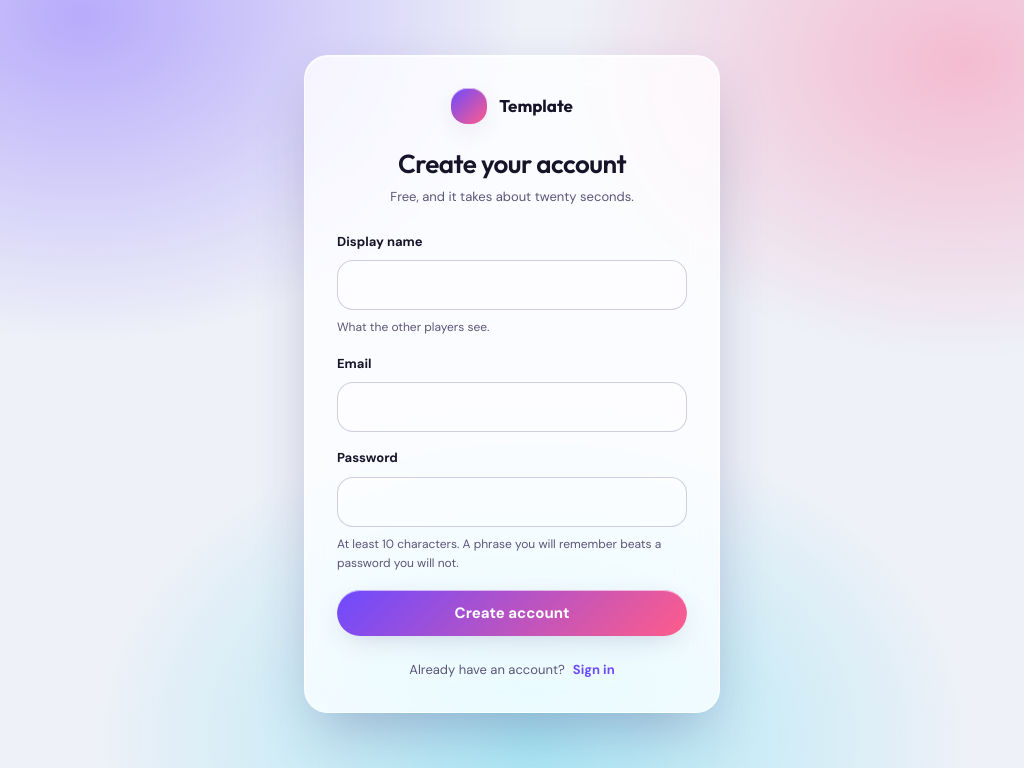
Test: server errors › ★ EMAIL_TAKEN lands on the email field even with no fieldErrors
In the field labelled "Display name": (512, 285) [337,260,687,310], type "Mehrang"
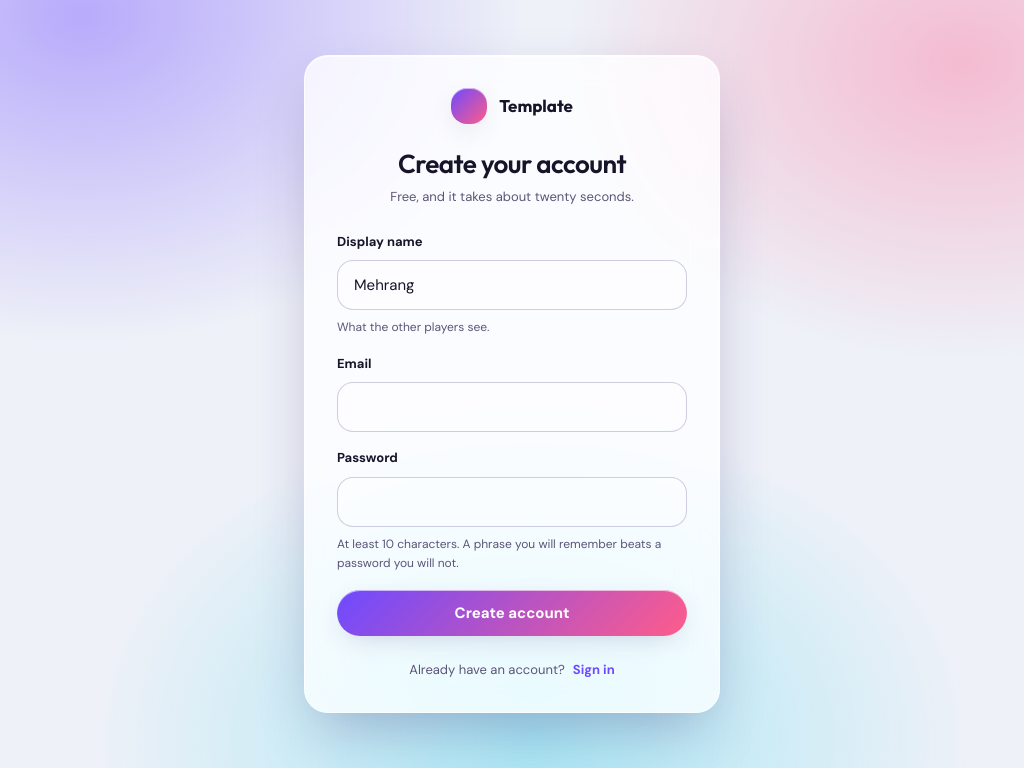
In the field labelled "Email": (512, 407) [337,382,687,432], type "taken@test.dev"
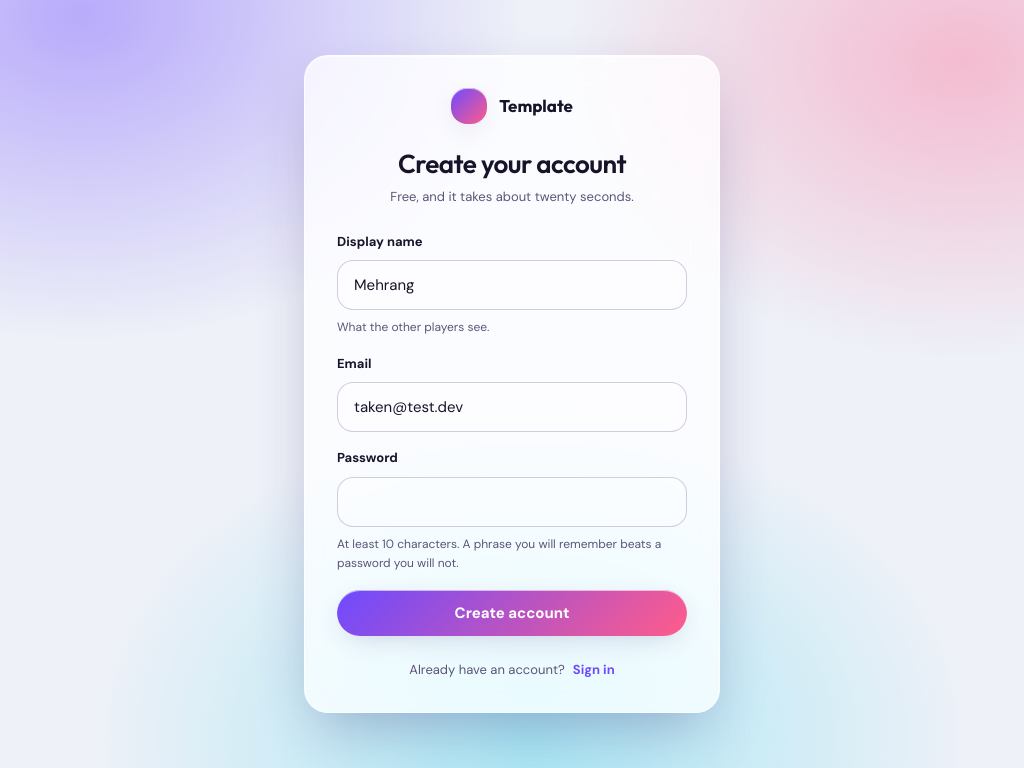
In the password field labelled "Password": (512, 502) [337,477,687,527], type "correct-horse-battery"
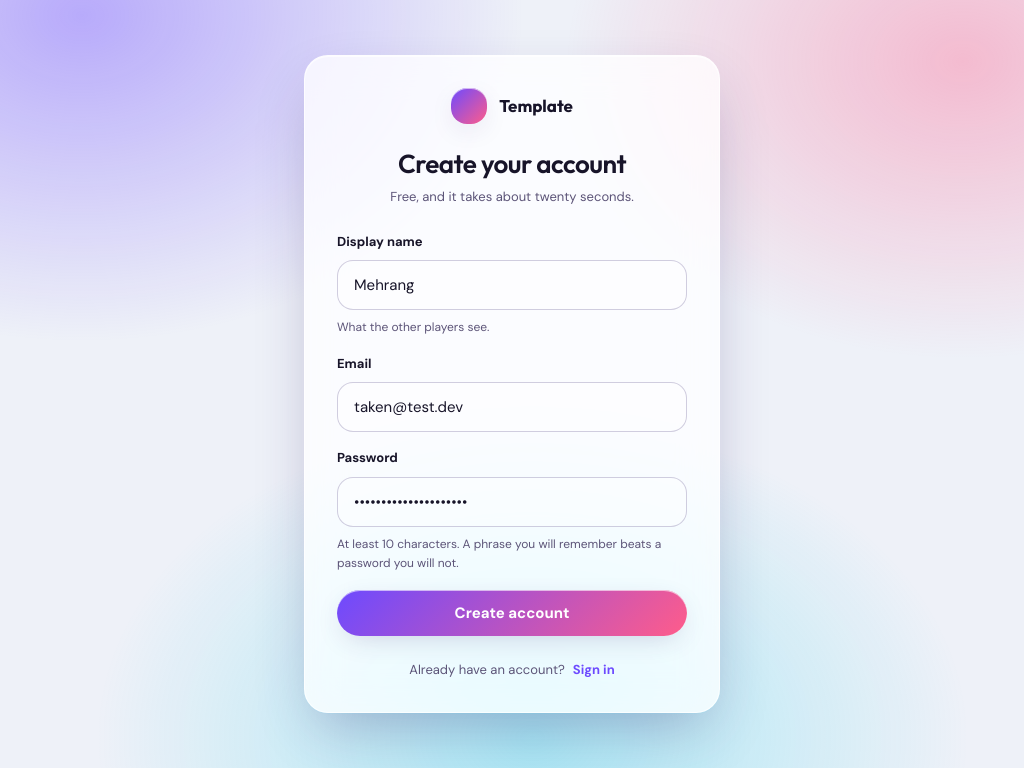
Submit the form from the button "Create account", box [337,590,687,636]
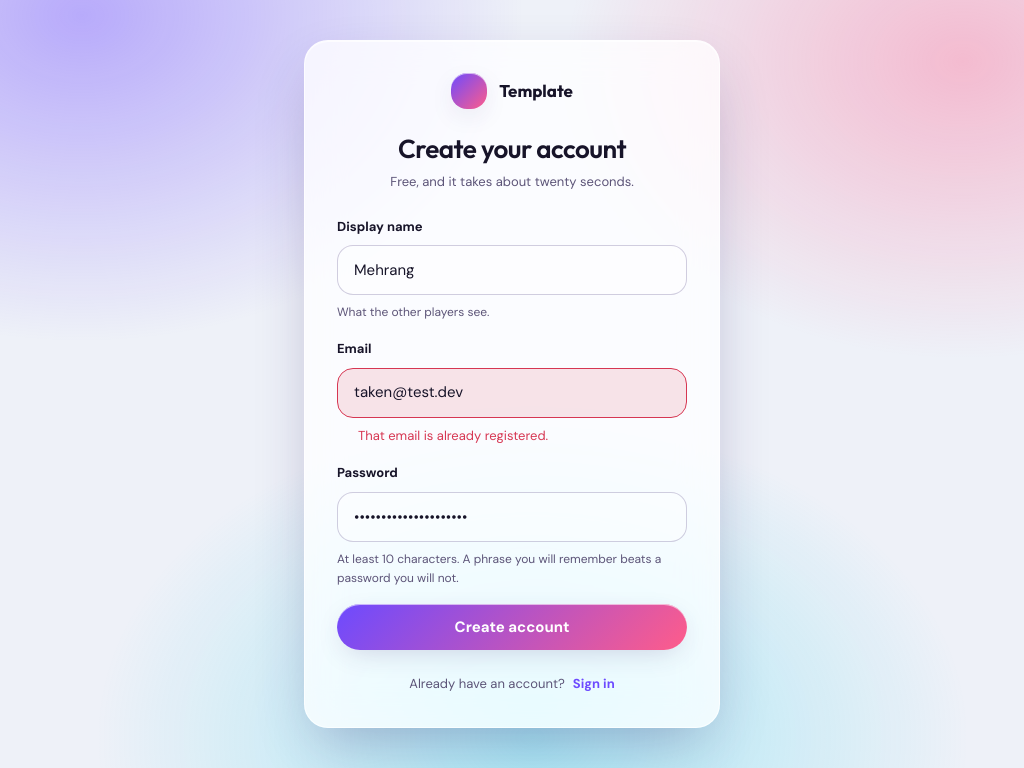
Expected: the text "That email is already registered." is shown, [358,426,548,447]
